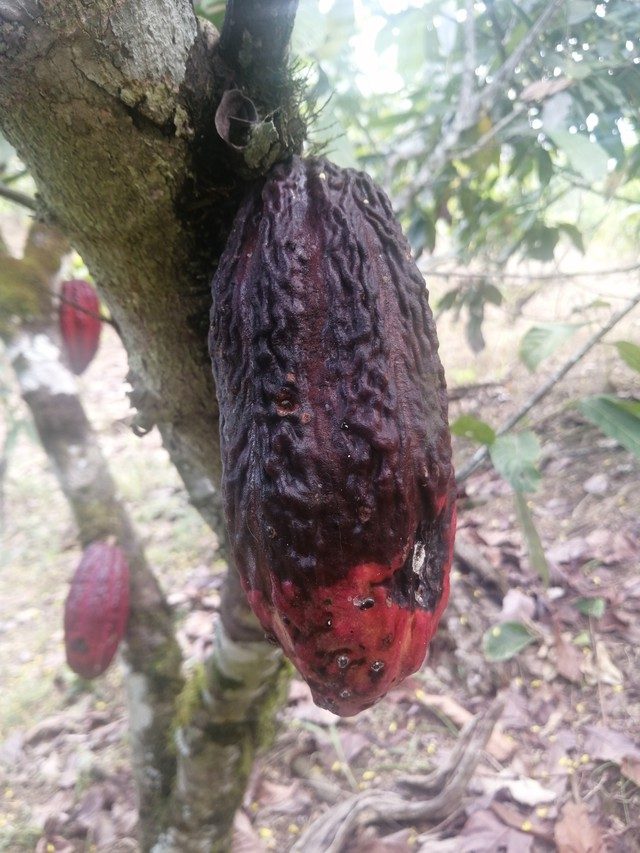phytophthora palmivora: (200, 142, 471, 722)
